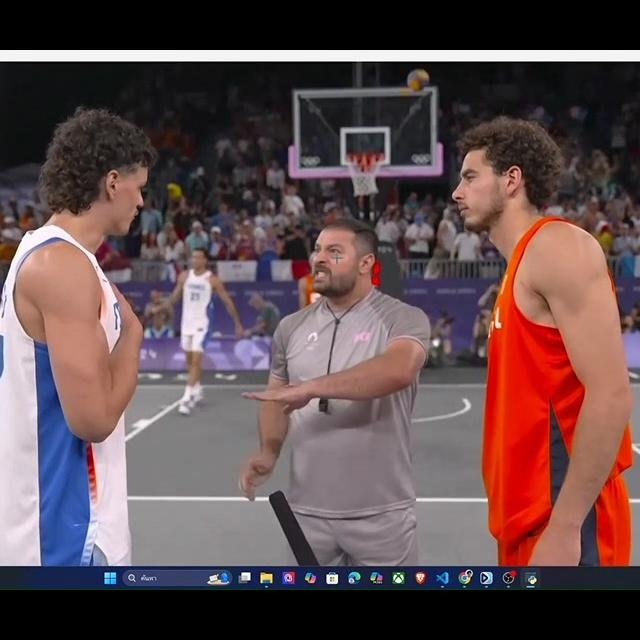basketball: (403, 68, 432, 93)
hoop: (345, 149, 386, 197)
